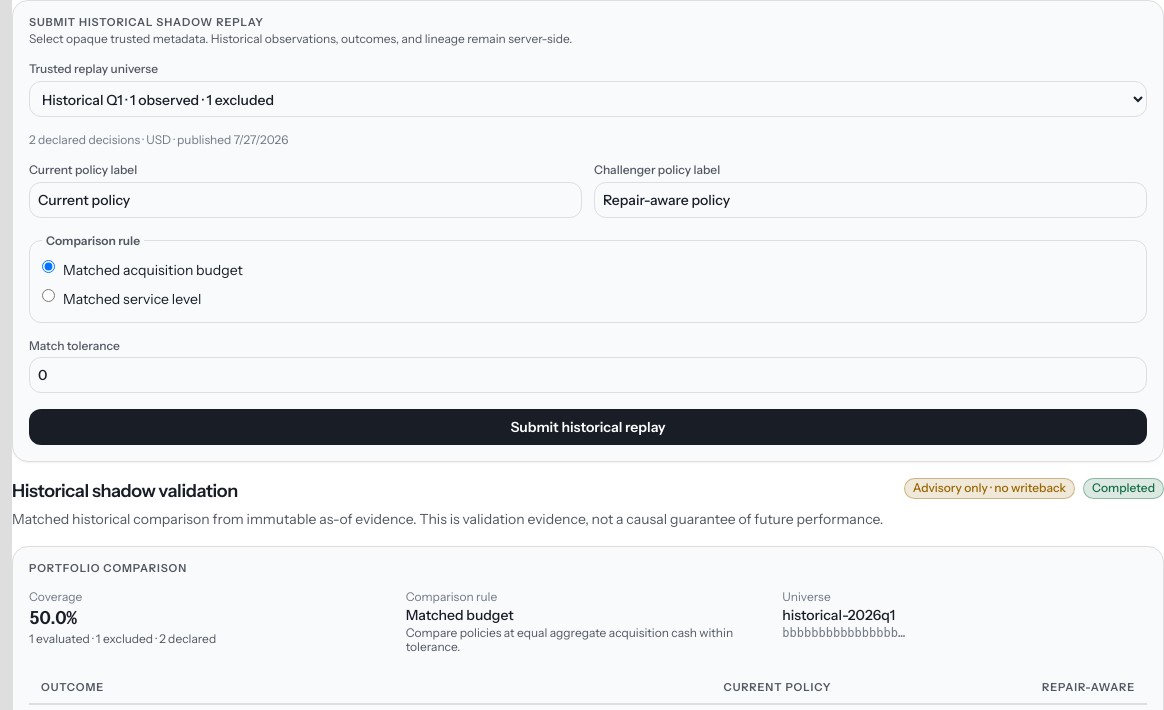
Test: ShadowValidationPanel › reports an idempotent completed replay without claiming polling is active
The width and height of the screenshot is (1164, 710).
Click the button "Submit historical replay". click: (588, 427)
box: [29, 409, 1147, 445]
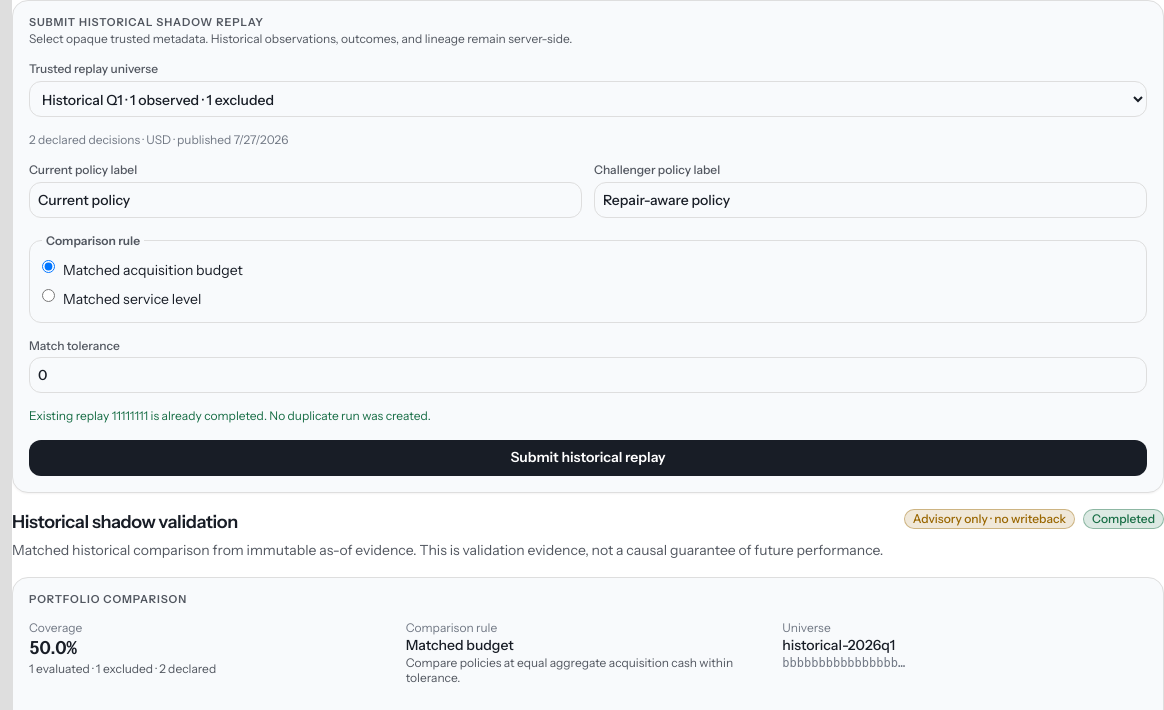
Now the text "Existing replay 11111111 is already completed. No duplicate run was created." is shown, box [29, 408, 431, 423]
